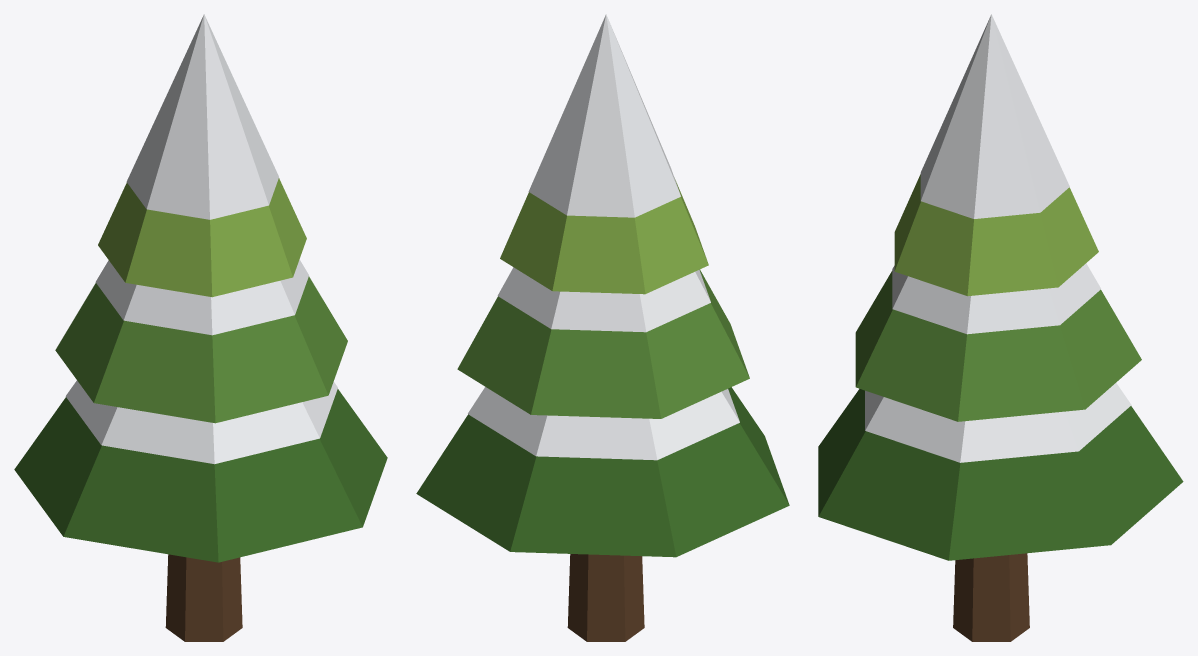
Rendered from tree_snowpine.glb.
The picture shows the model from 3 angles, left to right: view 1: azimuth 30°, elevation 25°; view 2: azimuth 150°, elevation 25°; view 3: azimuth 270°, elevation 25°; orthographic projection.
Visible parts, largest first — view 1: tree_snowpine; view 2: tree_snowpine; view 3: tree_snowpine.
Boxes of the visible parts, x1=… form: tree_snowpine: x1=14, y1=14, x2=387, y2=641; tree_snowpine: x1=416, y1=14, x2=789, y2=641; tree_snowpine: x1=818, y1=14, x2=1183, y2=641.
Size of the model in its own units: 0.2437 by 0.4409 by 0.2376.
